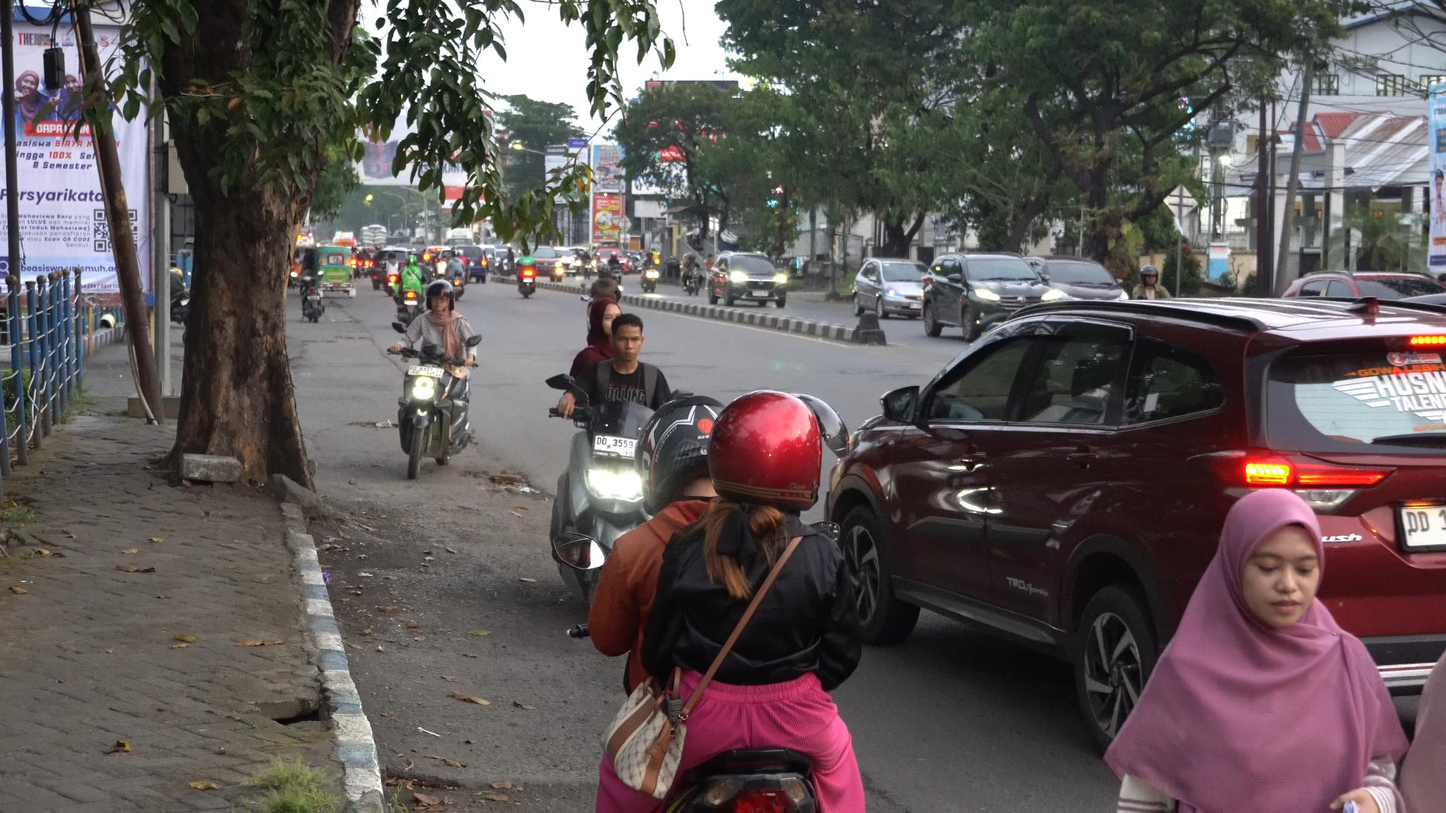number-plate: (407, 365, 444, 379)
